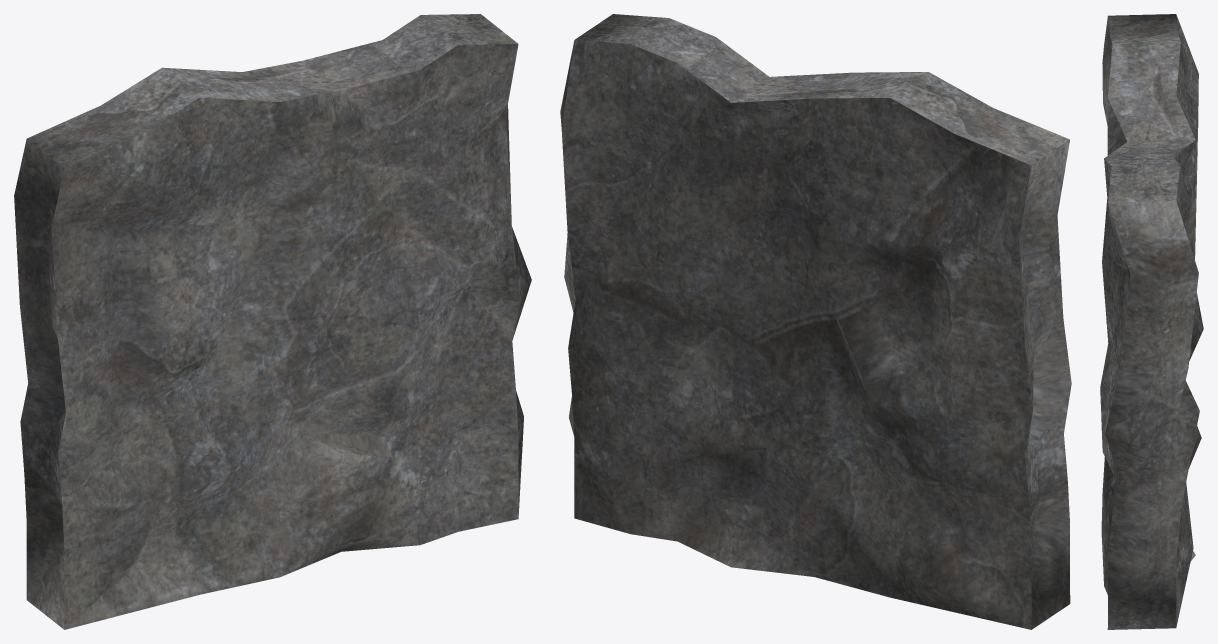
The model's file is wall.fbx.
3 views of the same model, side by side, from view 1: azimuth 30°, elevation 25°; view 2: azimuth 150°, elevation 25°; view 3: azimuth 270°, elevation 25° (orthographic). The views are drawn at different scales.
Visible parts, largest first — view 1: Rock.004; view 2: Rock.004; view 3: Rock.004.
Boxes of the visible parts, x1,y1,x2,y2 form: Rock.004: (14,14,531,629); Rock.004: (560,14,1071,629); Rock.004: (1100,14,1203,629).
Size of the model in its own units: 26697 by 26239 by 5492.
